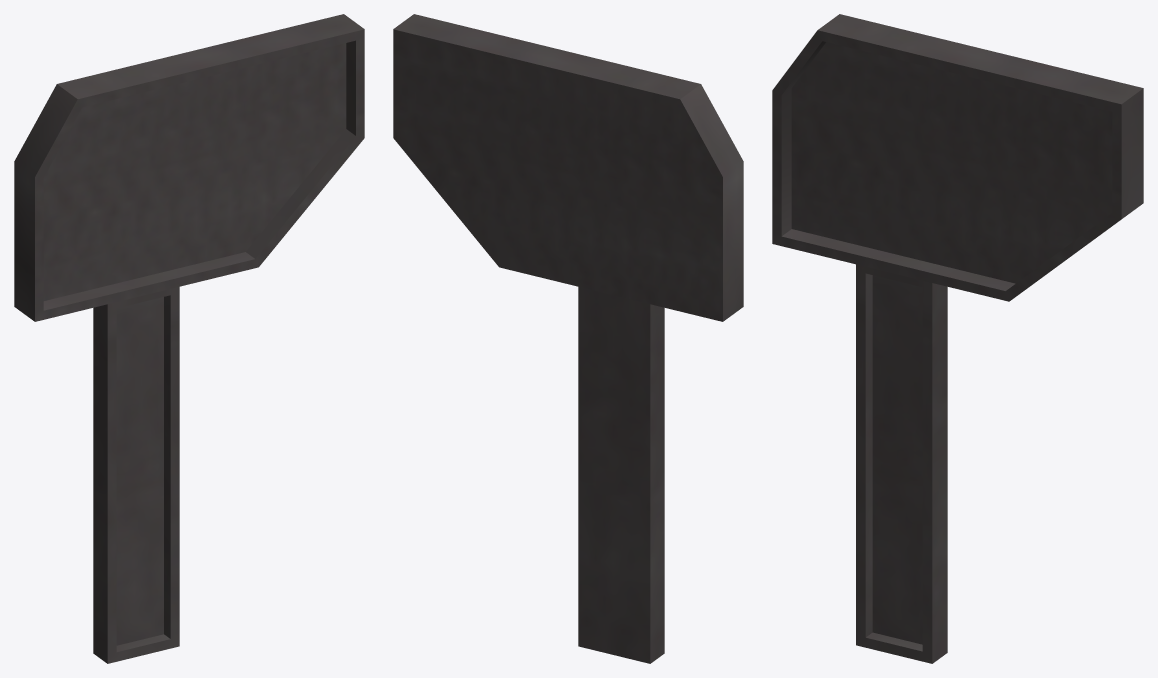
The model's file is Sign 1.fbx.
3 views of the same model, side by side, from view 1: azimuth 30°, elevation 25°; view 2: azimuth 150°, elevation 25°; view 3: azimuth 330°, elevation 25° (orthographic). The views are drawn at different scales.
Visible parts, largest first — view 1: Sign_1; view 2: Sign_1; view 3: Sign_1.
Boxes of the visible parts, x1,y1,x2,y2 form: Sign_1: (14,14,364,663); Sign_1: (393,14,743,663); Sign_1: (772,14,1143,663).
Bounding box in the file's own units: 119 × 198 × 13.06.
Materials: 1 (1 with a texture image).
